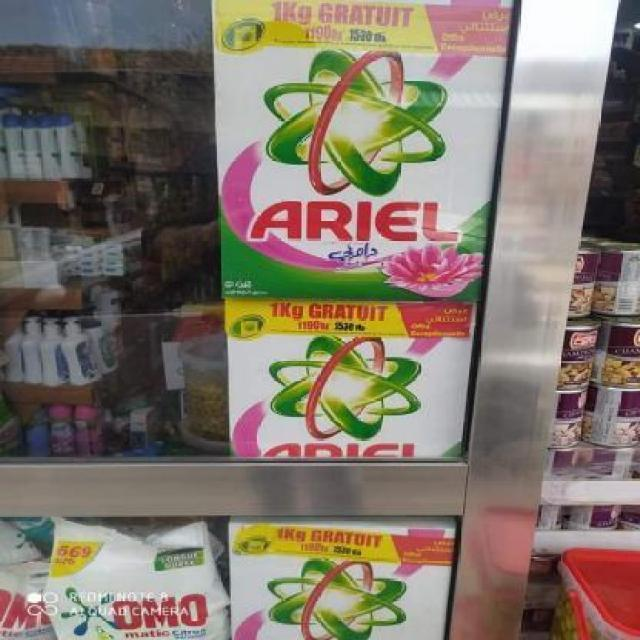Detergent: (206, 0, 493, 298), (232, 298, 455, 464), (225, 524, 453, 640)
